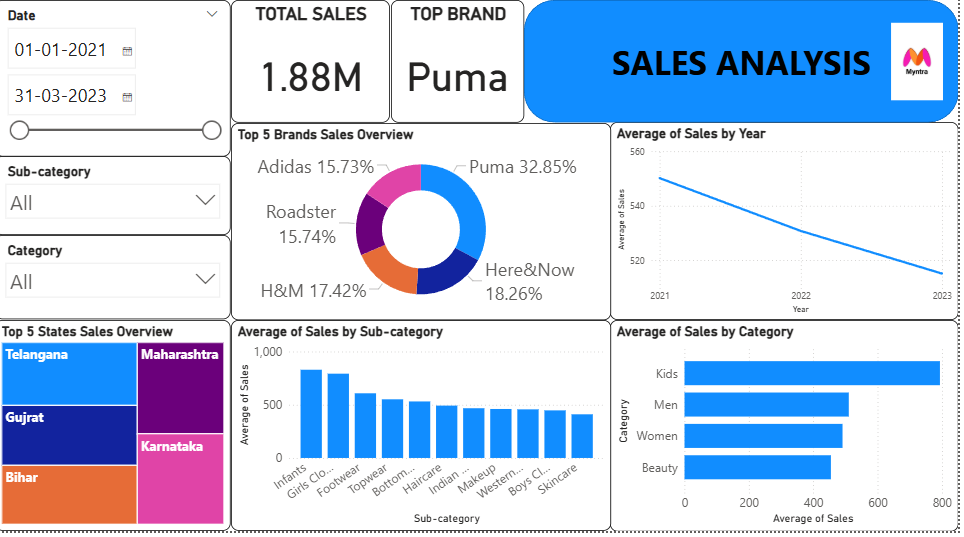

The page's visual inventory and layout, read from the dashboard file:
{"tool":"powerbi","page":{"name":"Sales Analysis","canvas":[1280,720],"ordinal":2},"visuals":[{"type":"barChart","fields":{"Category":["Products myntra.Category"],"Y":["Avg(orders myntra.Sales)"]},"box":[817,439.8,463,280.7],"z":0},{"type":"columnChart","fields":{"Category":["Products myntra.Sub-category"],"Y":["Avg(orders myntra.Sales)"]},"box":[313,439.1,504.5,280.3],"z":1000},{"type":"lineChart","fields":{"Category":["orders myntra.Date.Variation.Date Hierarchy.Year"],"Y":["Avg(orders myntra.Sales)"]},"box":[817,177,463,262.8],"z":2000},{"type":"donutChart","title":"Top 5 Brands Sales Overview","fields":{"Category":["Products myntra.Brand Name"],"Y":["Avg(orders myntra.Sales)"]},"box":[313,177.5,504.5,261.6],"z":3000},{"type":"treemap","title":"Top 5 States Sales Overview","fields":{"Group":["customers myntra.State"],"Values":["Avg(orders myntra.Sales)"]},"box":[0,439.1,313,280.3],"z":4000},{"type":"slicer","fields":{"Values":["Products myntra.Category"]},"box":[0,327,313,112.1],"z":5000},{"type":"slicer","fields":{"Values":["Products myntra.Sub-category"]},"box":[0,221.9,313,105.1],"z":6000},{"type":"slicer","fields":{"Values":["orders myntra.Date"]},"box":[0,14,313,207.9],"z":7000},{"type":"card","title":"TOTAL SALES","fields":{"Values":["Sum(orders myntra.Sales)"]},"box":[312.8,14.3,210.9,162.7],"z":8000},{"type":"card","title":"TOP BRAND","fields":{"Values":["Min(Products myntra.Brand Name)"]},"box":[525.6,14.3,177,162.7],"z":9000},{"type":"shape","box":[702.6,14.3,577.4,162.7],"z":9001},{"type":"image","box":[1170.9,39.3,109.1,112.6],"z":9002}]}

Visuals, with their boxes in screenshot pixels (x1, y1, x2, y2), scaled from the page's 1280x720 canvas onto the 964x537 screenshot:
barChart - Products myntra.Category x Avg(orders myntra.Sales): [615, 328, 963, 536]
columnChart - Products myntra.Sub-category x Avg(orders myntra.Sales): [236, 327, 616, 536]
lineChart - orders myntra.Date.Variation.Date Hierarchy.Year x Avg(orders myntra.Sales): [615, 132, 963, 328]
"Top 5 Brands Sales Overview" donutChart: [236, 132, 616, 327]
"Top 5 States Sales Overview" treemap: [0, 327, 236, 536]
slicer - Products myntra.Category: [0, 244, 236, 327]
slicer - Products myntra.Sub-category: [0, 166, 236, 244]
slicer - orders myntra.Date: [0, 10, 236, 166]
"TOTAL SALES" card: [236, 11, 394, 132]
"TOP BRAND" card: [396, 11, 529, 132]
shape: [529, 11, 963, 132]
image: [882, 29, 963, 113]
